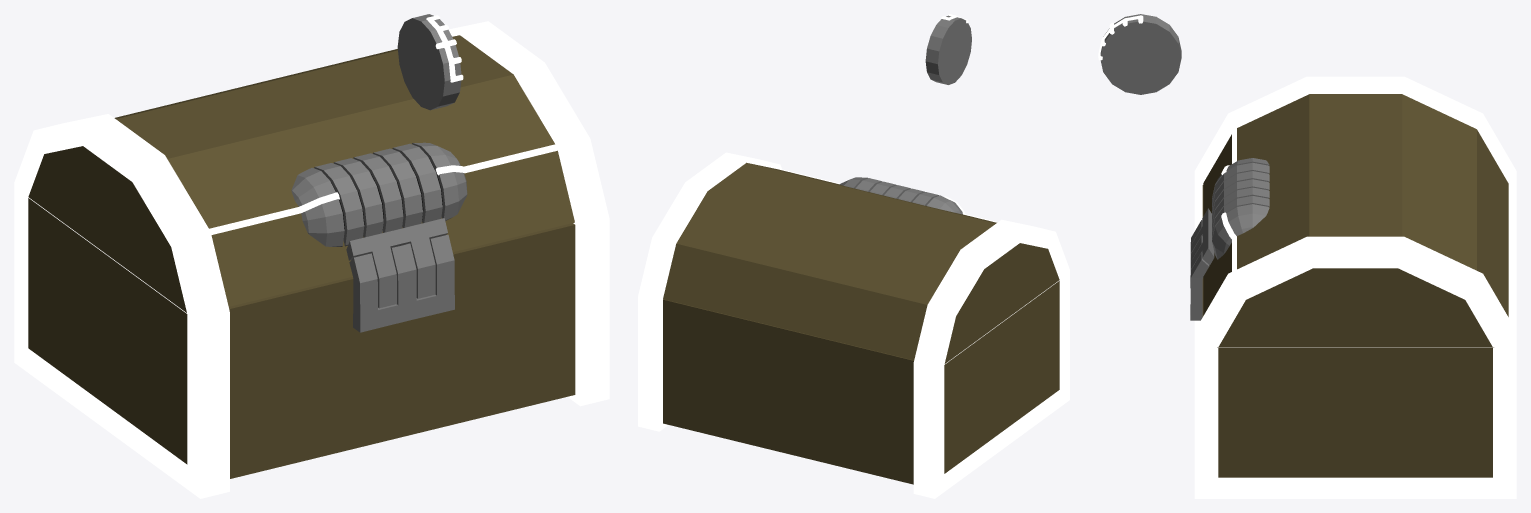
Rendered from chest.glb.
3 views of the same model, side by side, from view 1: azimuth 30°, elevation 25°; view 2: azimuth 150°, elevation 25°; view 3: azimuth 270°, elevation 25° (orthographic). The views are drawn at different scales.
Visible parts, largest first — view 1: chest, lid, lid-glow, glow, lock-bottom, roller-prototype, lock-top, roller-edge-left, roller-edge-right, roller1, roller3, roller5 (+2 smaller); view 2: lid, chest, lid-glow, glow, roller-prototype; view 3: lid, chest, lid-glow, glow, roller-prototype, roller-edge-right, lock-bottom, lock-top, roller4, roller2, roller1, roller3 (+1 smaller).
Part boxes in pixels (x1=…): chest: x1=28, y1=198, x2=575, y2=478; lid: x1=28, y1=35, x2=574, y2=312; lid-glow: x1=14, y1=21, x2=609, y2=318; glow: x1=14, y1=183, x2=609, y2=498; lock-bottom: x1=349, y1=234, x2=454, y2=332; roller-prototype: x1=397, y1=14, x2=461, y2=110; lock-top: x1=346, y1=218, x2=447, y2=308; roller-edge-left: x1=291, y1=167, x2=344, y2=246; roller-edge-right: x1=412, y1=142, x2=467, y2=220; roller1: x1=314, y1=163, x2=364, y2=246; roller3: x1=353, y1=153, x2=403, y2=232; roller5: x1=392, y1=143, x2=442, y2=223; lid: x1=663, y1=162, x2=1059, y2=363; chest: x1=663, y1=281, x2=1059, y2=484; lid-glow: x1=638, y1=152, x2=1069, y2=368; glow: x1=638, y1=270, x2=1069, y2=498; roller-prototype: x1=925, y1=15, x2=971, y2=84; lid: x1=1203, y1=94, x2=1508, y2=346; chest: x1=1202, y1=185, x2=1493, y2=477; lid-glow: x1=1194, y1=76, x2=1516, y2=347; glow: x1=1194, y1=183, x2=1516, y2=498; roller-prototype: x1=1100, y1=14, x2=1181, y2=94; roller-edge-right: x1=1212, y1=204, x2=1269, y2=259; lock-bottom: x1=1190, y1=220, x2=1209, y2=320; lock-top: x1=1190, y1=208, x2=1214, y2=272; roller4: x1=1212, y1=187, x2=1269, y2=231; roller2: x1=1212, y1=171, x2=1269, y2=214; roller1: x1=1212, y1=162, x2=1269, y2=206; roller3: x1=1212, y1=179, x2=1269, y2=222.
Size of the model in its own units: 0.4007 by 0.4264 by 0.4102.
